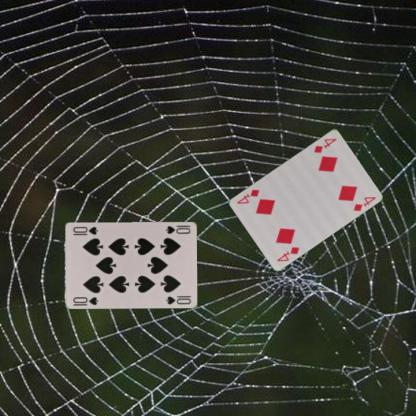10s: (70, 294, 100, 306), (163, 223, 192, 235)
4d: (312, 136, 338, 154), (274, 244, 300, 262)
